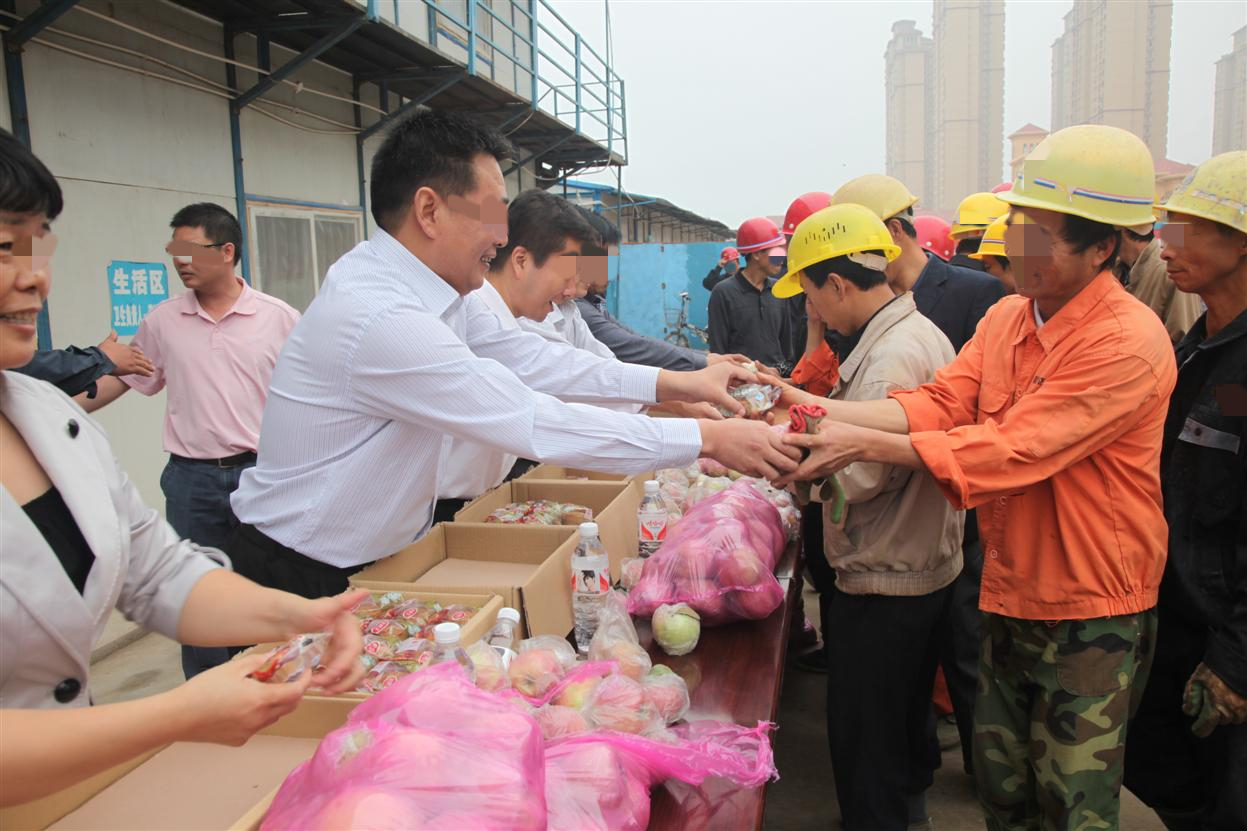helmet: (1001, 123, 1155, 230), (772, 204, 901, 302), (1158, 149, 1247, 232), (834, 173, 919, 223), (949, 193, 1009, 241), (970, 212, 1011, 265), (783, 190, 830, 236), (916, 215, 955, 261), (736, 217, 783, 249), (721, 246, 741, 261)
person: (184, 110, 794, 626), (798, 119, 1181, 831), (1, 123, 370, 800), (447, 185, 754, 517), (86, 196, 305, 563), (1157, 147, 1247, 831), (706, 216, 797, 373), (700, 246, 742, 294)
